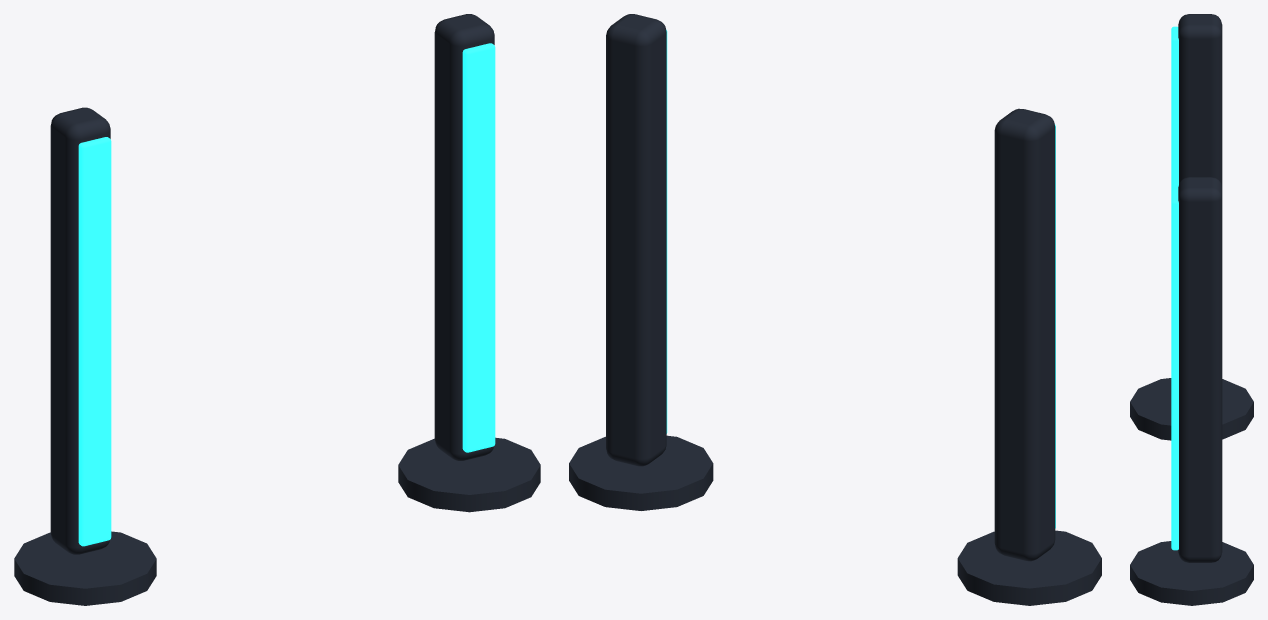
Rendered from light.bars.pair.0bddc52bb5.glb.
3 views of the same model, side by side, from view 1: azimuth 30°, elevation 25°; view 2: azimuth 150°, elevation 25°; view 3: azimuth 270°, elevation 25° (orthographic). The views are drawn at different scales.
Parts seen in each view (by area): view 1: body, glow; view 2: body, glow; view 3: body, glow.
Boxes of the visible parts, x1,y1,x2,y2 form: body: (14,14,540,605); glow: (78,43,495,546); body: (569,14,1101,605); glow: (666,29,1055,528); body: (1130,14,1253,605); glow: (1171,26,1178,550).
Bounding box in the file's own units: 0.37 × 0.318 × 0.09.
